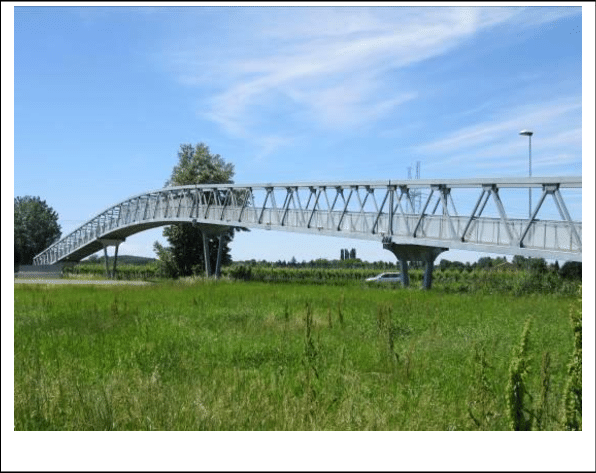bridge: (31, 174, 582, 269)
